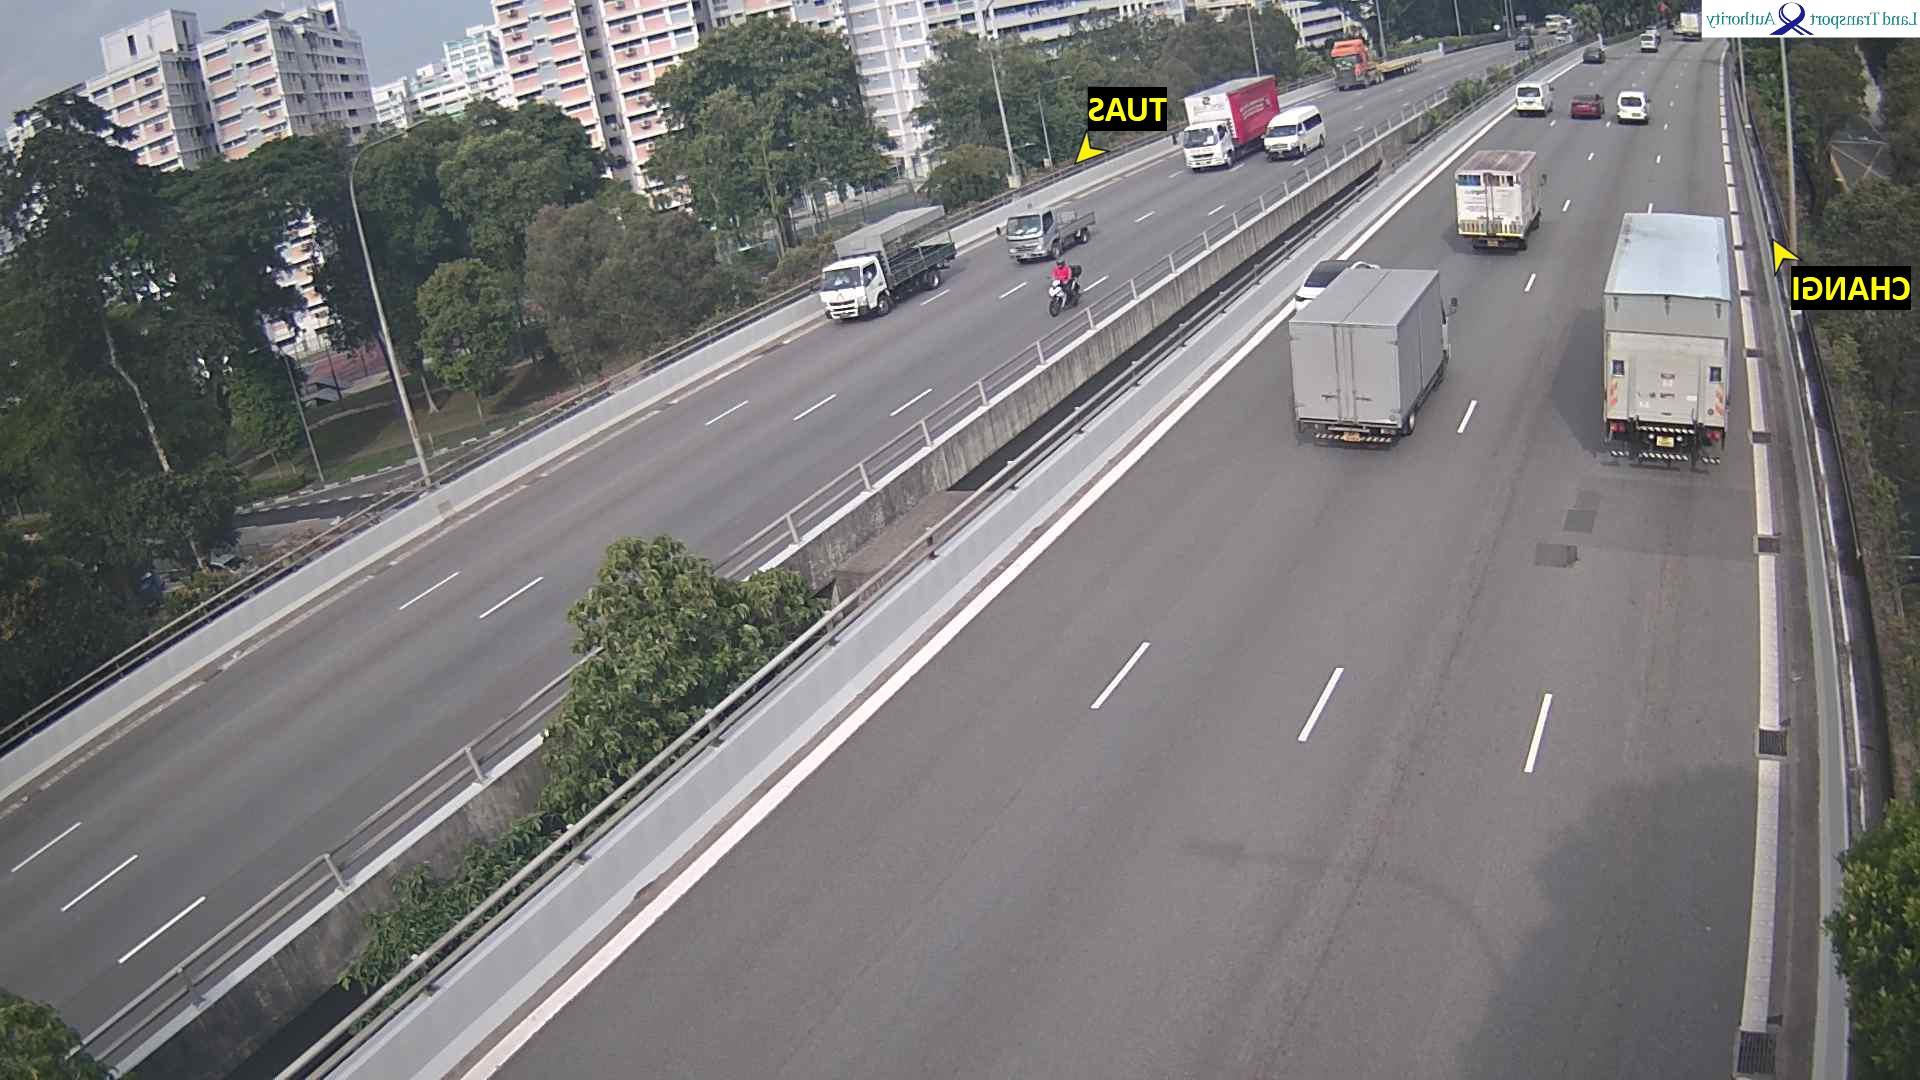incoming: (812, 249, 887, 330), (992, 210, 1058, 266), (1171, 119, 1233, 175), (1328, 37, 1373, 92), (1258, 119, 1307, 162), (1040, 272, 1075, 319), (1543, 13, 1565, 34), (1513, 33, 1535, 51)
